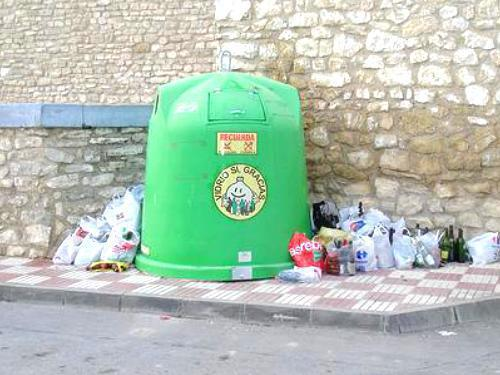Bote de Basura: (127, 72, 314, 277)
